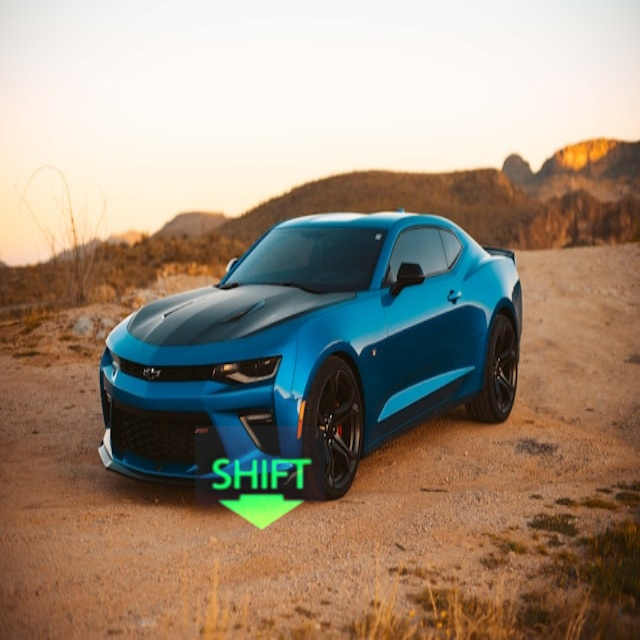symbol: (195, 426, 325, 556)
